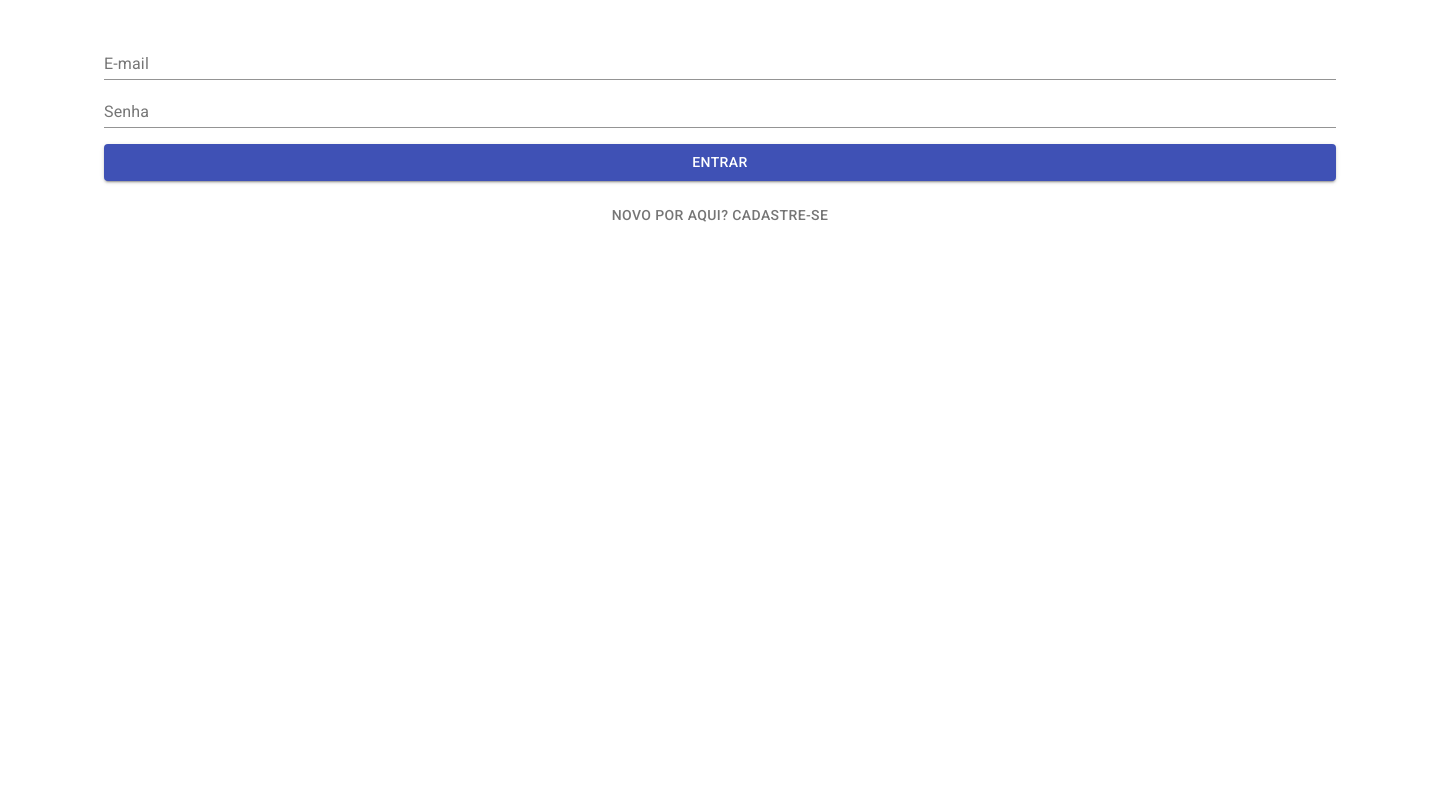
Test: <Login /> › should render sign in dialog, when user clicks on sign button
Click the button with test id "signin-button" at (720, 215), box [104, 196, 1336, 233]
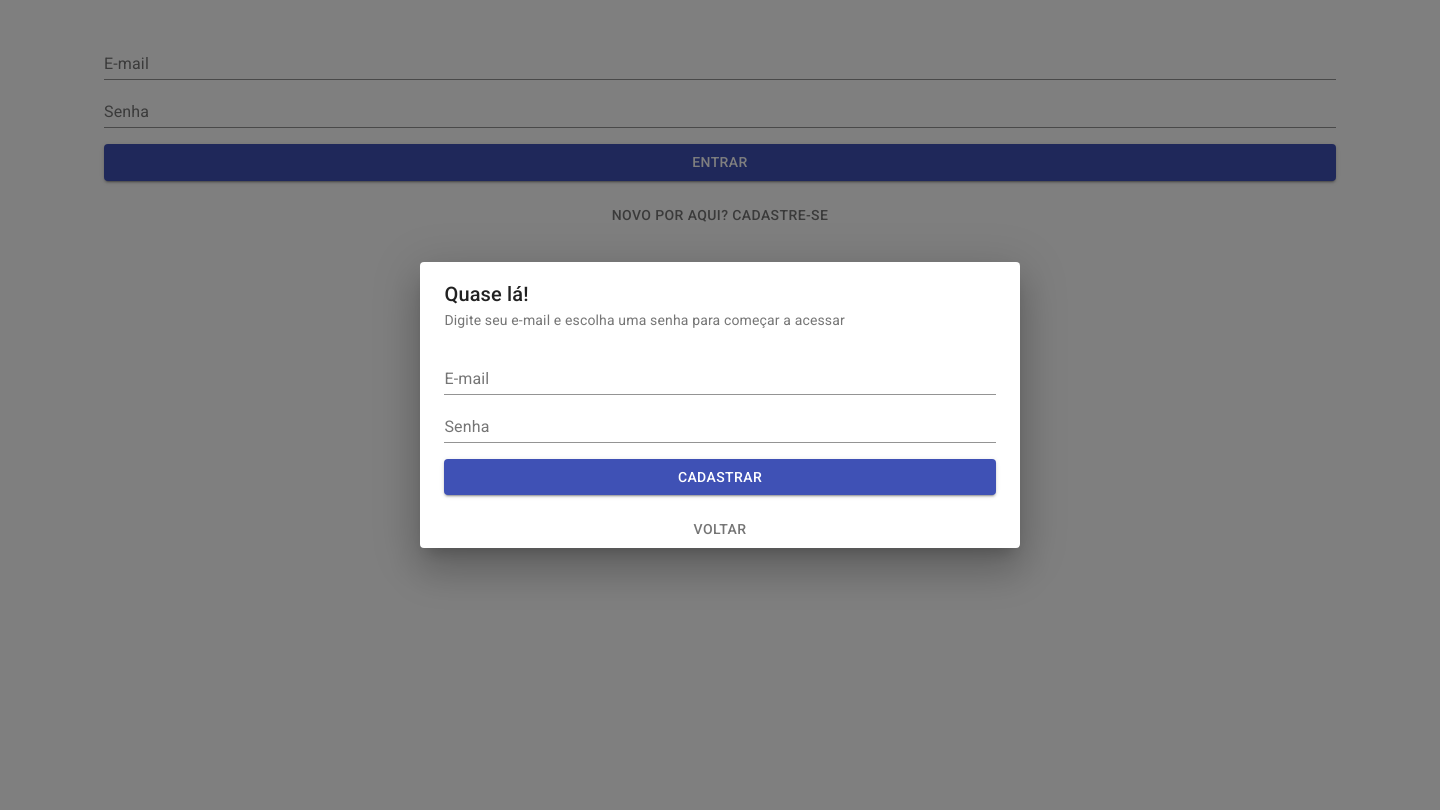
Expected: the element with test id "signin-dialog" is shown
